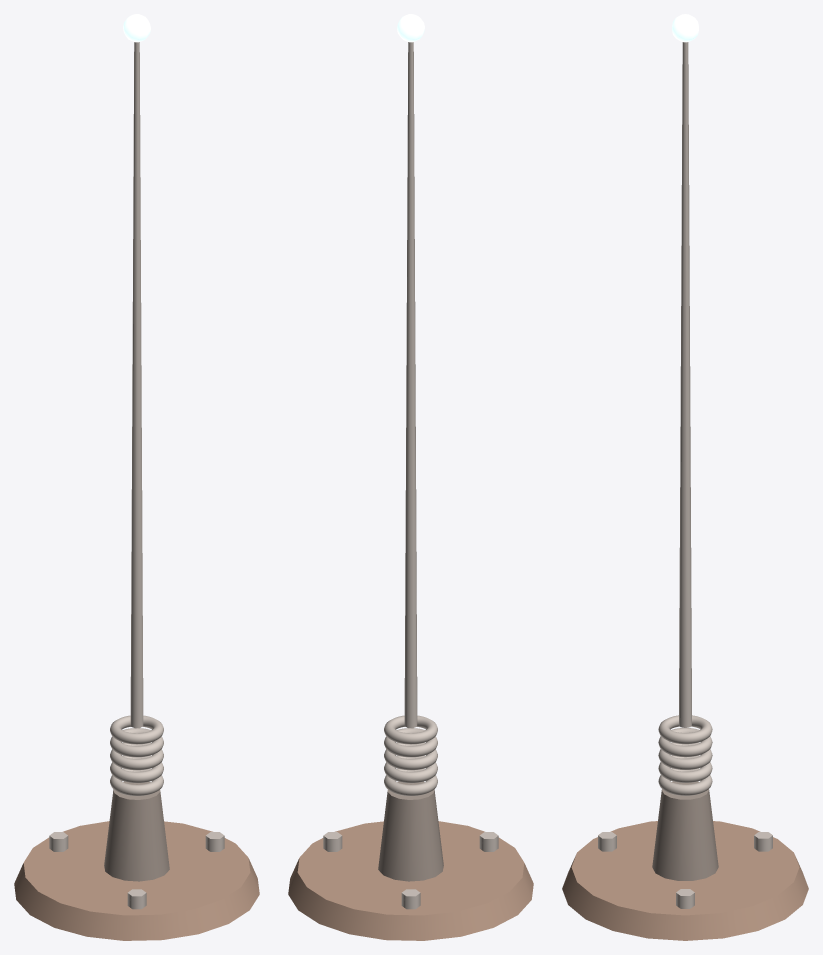
The model's file is P01_whip_antenna.glb.
3 views of the same model, side by side, from view 1: azimuth 30°, elevation 25°; view 2: azimuth 150°, elevation 25°; view 3: azimuth 270°, elevation 25° (orthographic).
Visible parts, largest first — view 1: base_plate, whip_rod, mount, spring (×5), blink_light; view 2: base_plate, whip_rod, mount, spring (×5), blink_light; view 3: base_plate, whip_rod, mount, spring (×5), blink_light.
Part boxes in pixels (box(x1,y1,x2,y2)): base_plate: box(14, 821, 259, 940); whip_rod: box(130, 42, 143, 728); mount: box(104, 781, 169, 881); spring (×5): box(110, 715, 163, 795); blink_light: box(123, 14, 150, 42); base_plate: box(288, 821, 533, 940); whip_rod: box(404, 42, 417, 728); mount: box(378, 781, 443, 881); spring (×5): box(384, 715, 437, 795); blink_light: box(397, 14, 424, 42); base_plate: box(562, 821, 808, 940); whip_rod: box(679, 42, 691, 727); mount: box(652, 781, 718, 880); spring (×5): box(658, 715, 712, 795); blink_light: box(672, 14, 698, 42).
Size of the model in its own units: 0.52 by 2.03 by 0.52.
